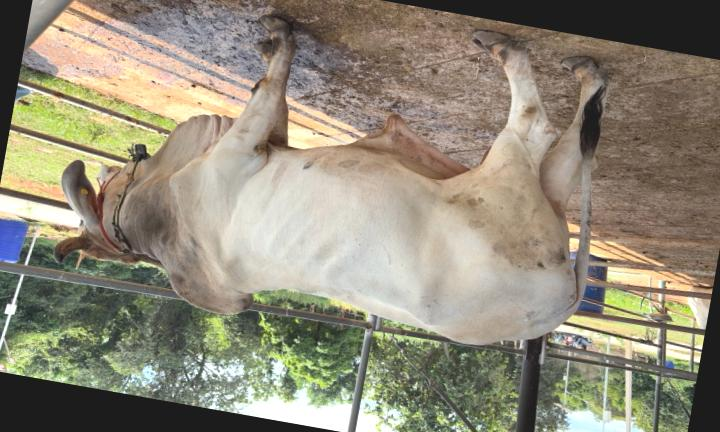Brahman: (54, 17, 610, 345)
